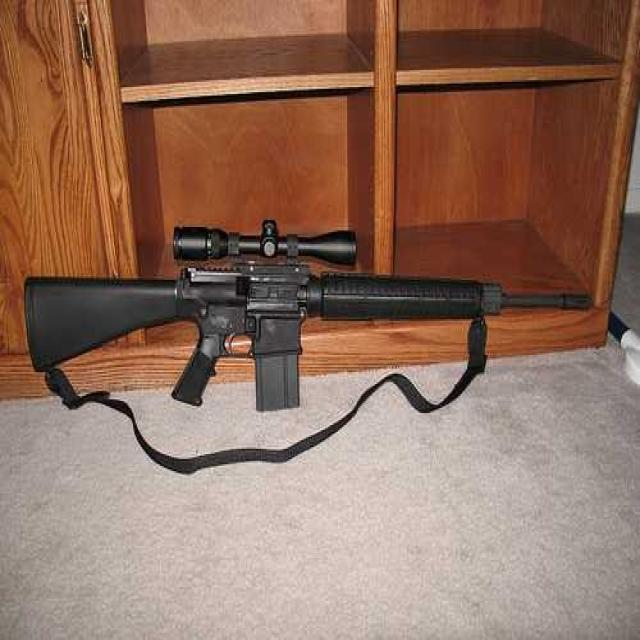RifleTel: (9, 200, 604, 452)
